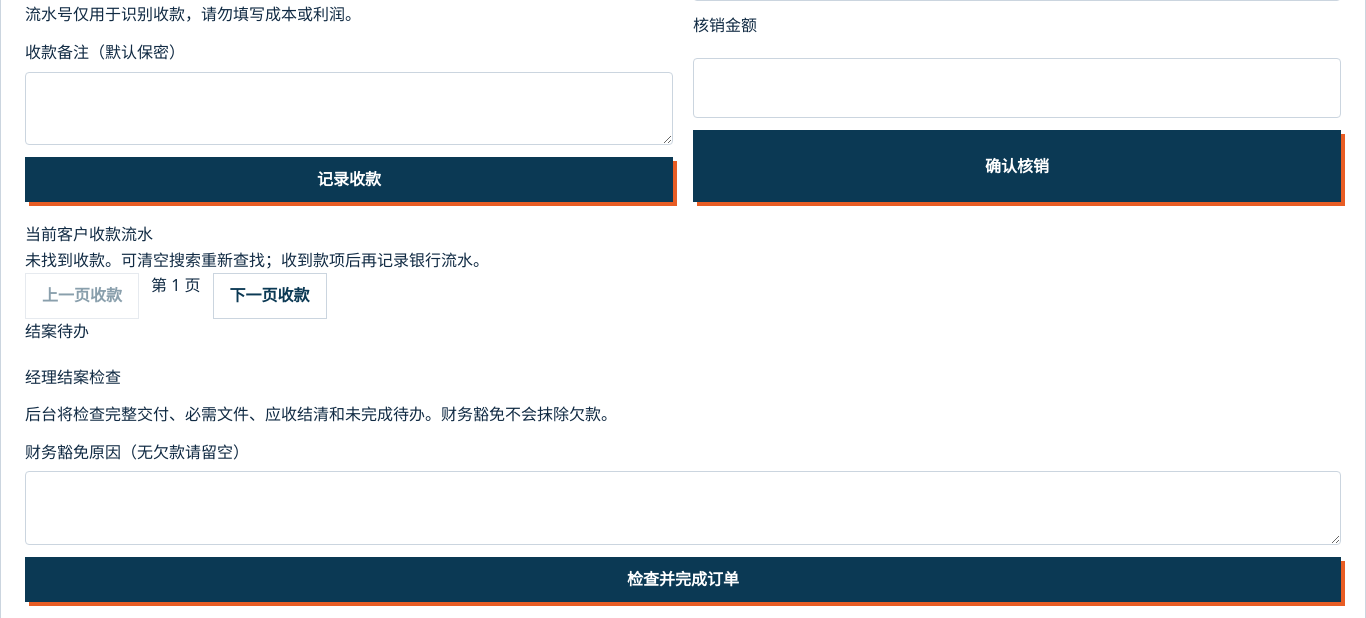
Test: order finance forms › scopes receipt pages to the customer and currency and resets the cursor on search
This screenshot has width=1366, height=618.
(page scrolled)
Click the button "下一页收款" at [270, 296], box [212,274,326,319]
(page scrolled)
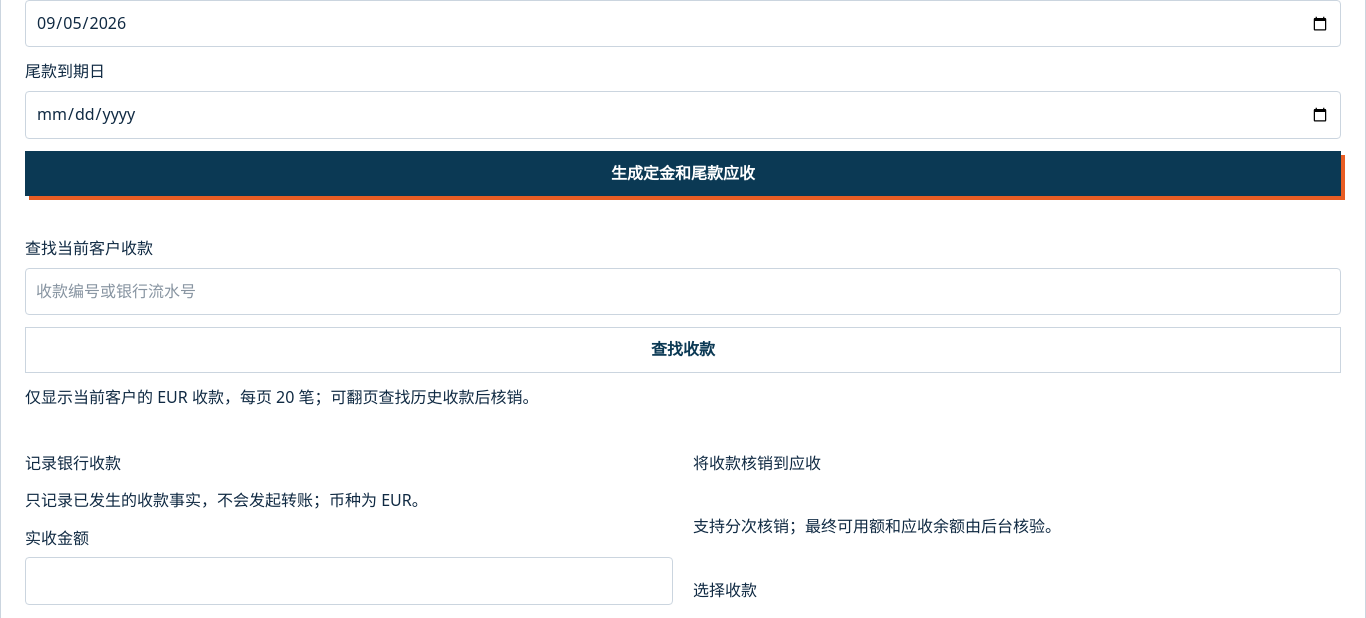
Type "BANK-OLD" into the field labelled "查找当前客户收款" at [683, 292], box [25,268,1341,315]
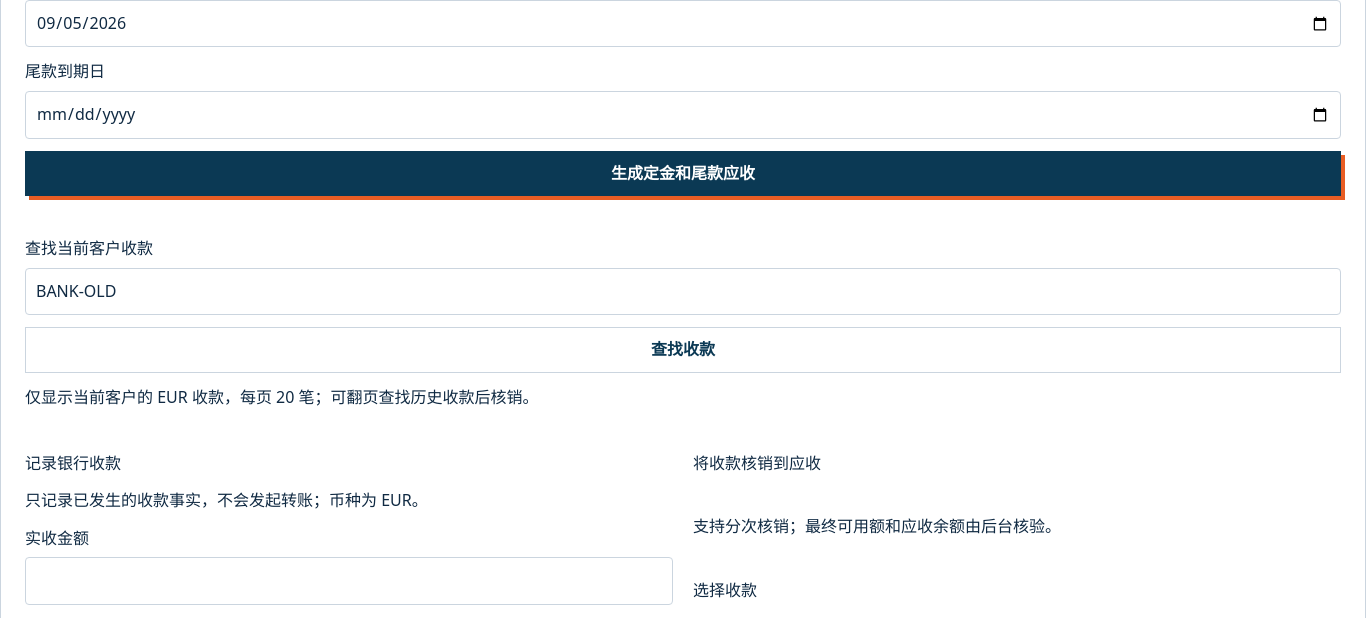
Click the button "查找收款" at [683, 350], box [25,327,1341,373]
(page scrolled)
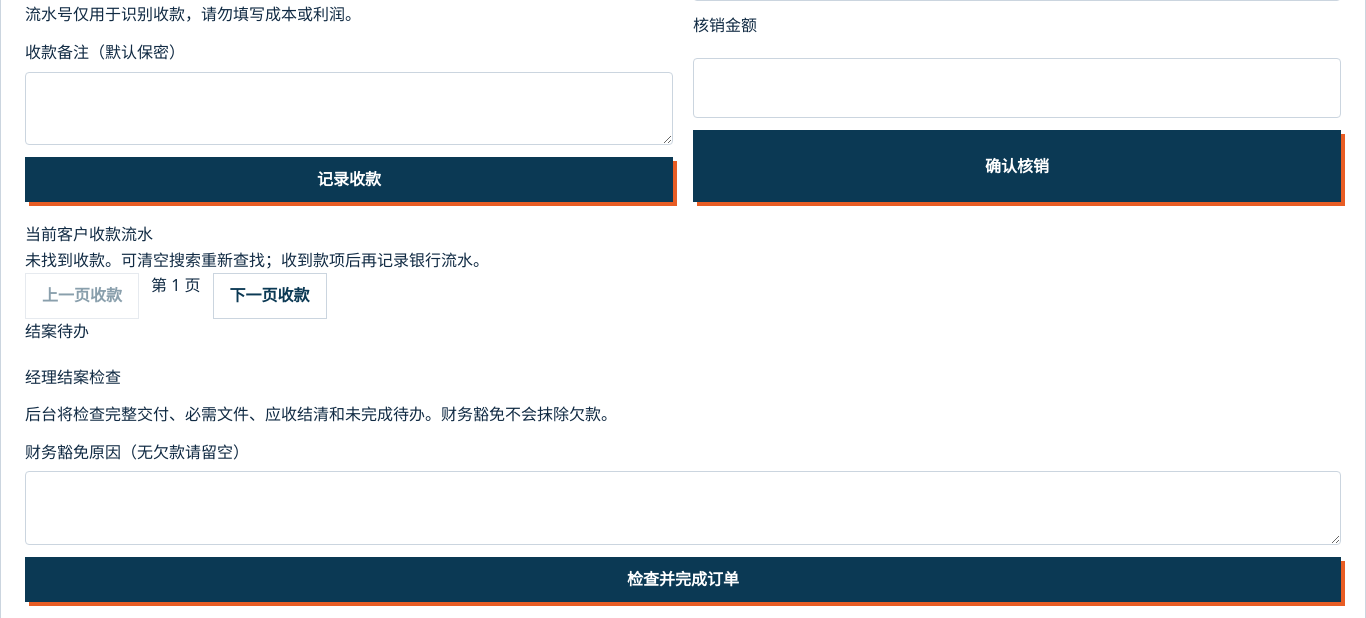
Result: the text "第 1 页" is shown at [151,274,200,296]
